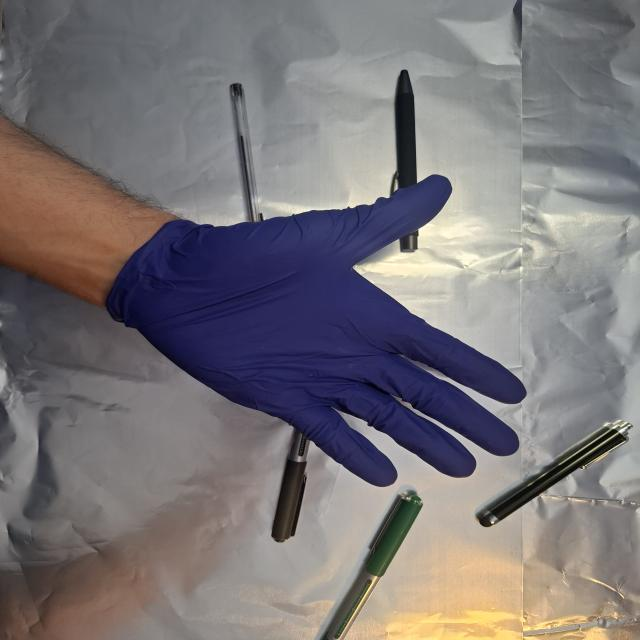glove_on: (106, 172, 530, 489)
